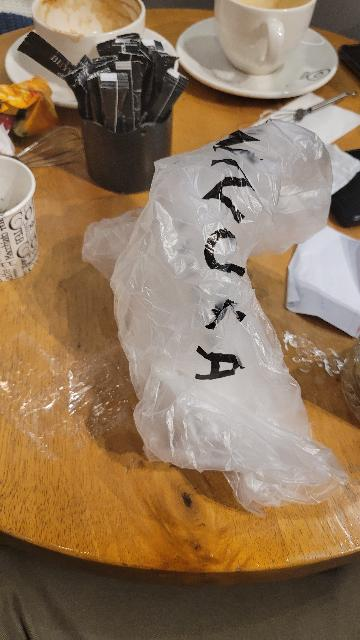Kagit: (65, 32, 187, 127), (0, 147, 40, 288), (0, 69, 61, 141)
Metal: (78, 114, 178, 193)
Plastik: (94, 125, 348, 503)
